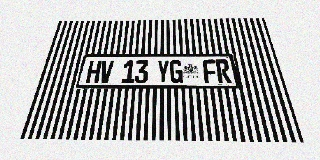1: (121, 60, 136, 83)
3: (134, 60, 148, 83)
F: (202, 60, 218, 83)
G: (170, 60, 183, 83)
H: (85, 60, 102, 83)
R: (215, 59, 232, 83)
V: (98, 60, 114, 83)
Y: (156, 60, 169, 83)
